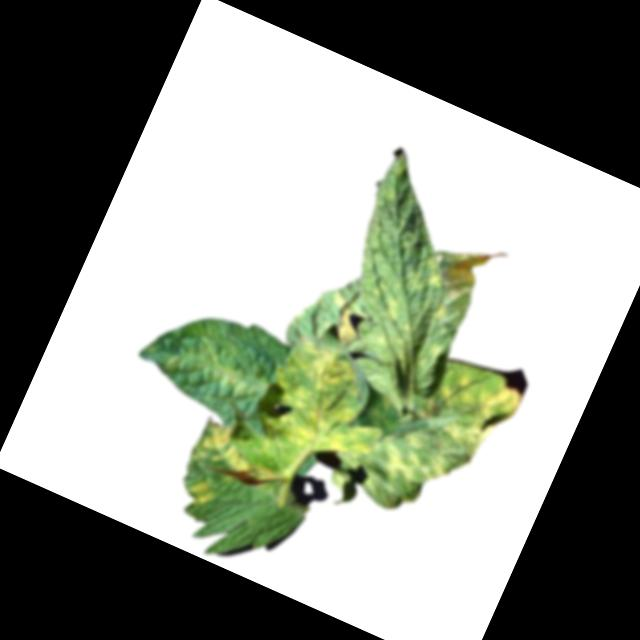Leaf_Mold: (248, 332, 404, 481), (161, 323, 277, 411), (422, 358, 524, 456), (363, 421, 458, 509), (187, 415, 270, 485), (360, 285, 431, 365), (439, 242, 500, 313), (319, 288, 374, 348), (402, 250, 451, 301), (183, 475, 220, 511), (433, 305, 448, 321)
